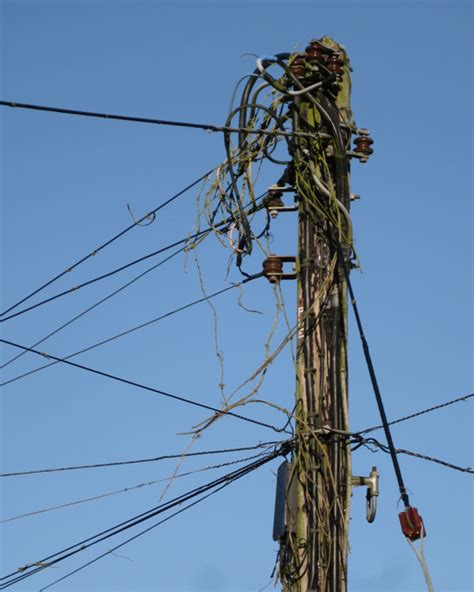pole: (196, 29, 444, 592)
